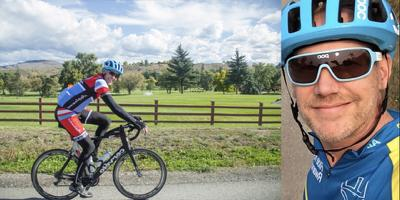With Helmet: (95, 58, 127, 89)
